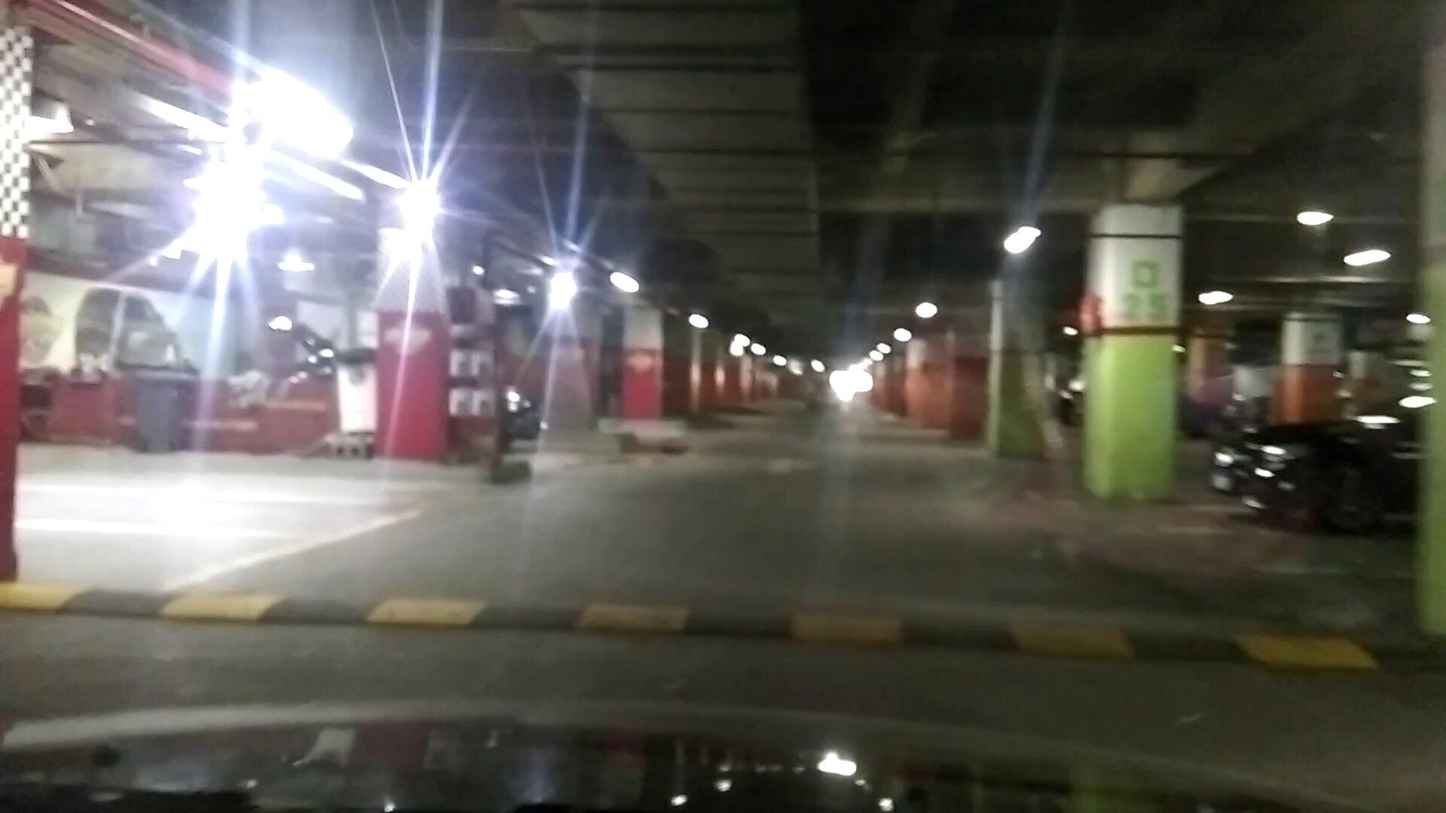Bump: (0, 553, 1446, 696)
